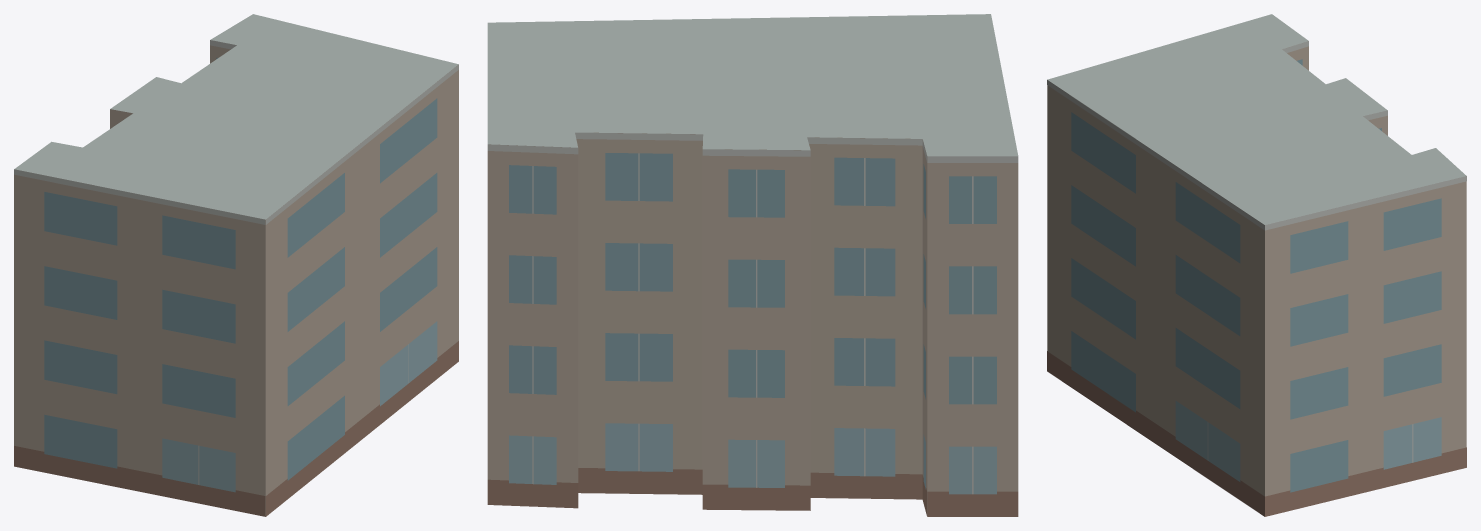
Rendered from survey-upis-32590307.glb.
The picture shows the model from 3 angles, left to right: view 1: azimuth 30°, elevation 25°; view 2: azimuth 150°, elevation 25°; view 3: azimuth 270°, elevation 25°; orthographic projection. The views are drawn at different scales.
Parts seen in each view (by area): view 1: survey-upis-32590307.tmp; view 2: survey-upis-32590307.tmp; view 3: survey-upis-32590307.tmp.
Part boxes in pixels (x1,y1,x2,y2): survey-upis-32590307.tmp: [14, 14, 458, 516]; survey-upis-32590307.tmp: [487, 14, 1018, 516]; survey-upis-32590307.tmp: [1047, 14, 1466, 516].
Bounding box in the file's own units: 20.74 × 13.35 × 17.42.
